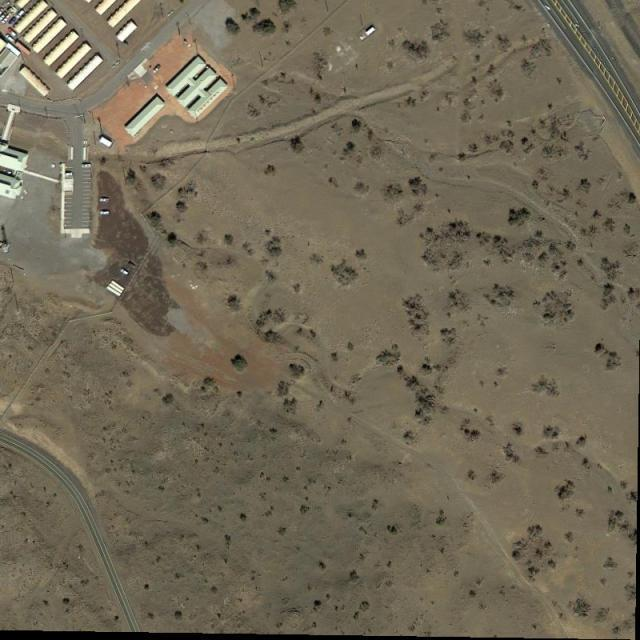vehicle: (2, 14, 13, 26), (7, 15, 18, 26), (16, 8, 26, 20), (7, 27, 18, 36), (152, 64, 161, 74), (1, 10, 9, 21), (6, 34, 16, 42), (120, 269, 130, 277), (127, 262, 136, 270), (82, 163, 92, 169), (100, 210, 110, 216), (1, 6, 6, 17), (101, 198, 110, 203), (66, 172, 74, 176)
